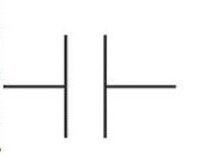Capacitor: (35, 29, 124, 141)
